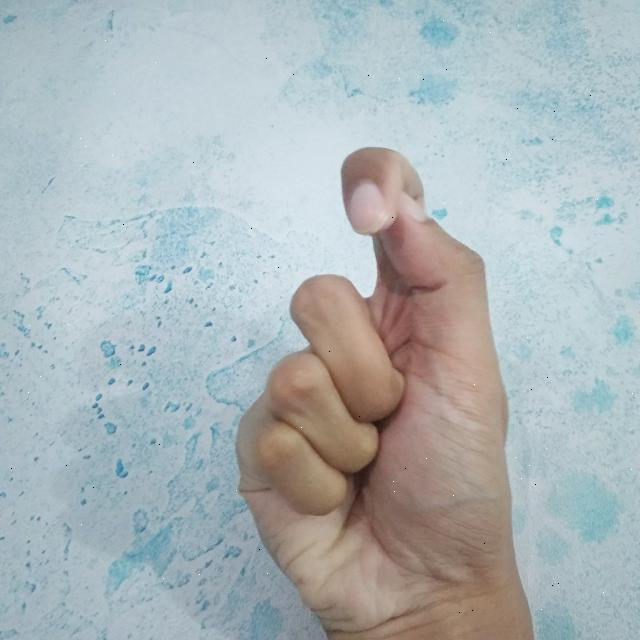T: (227, 143, 540, 640)
